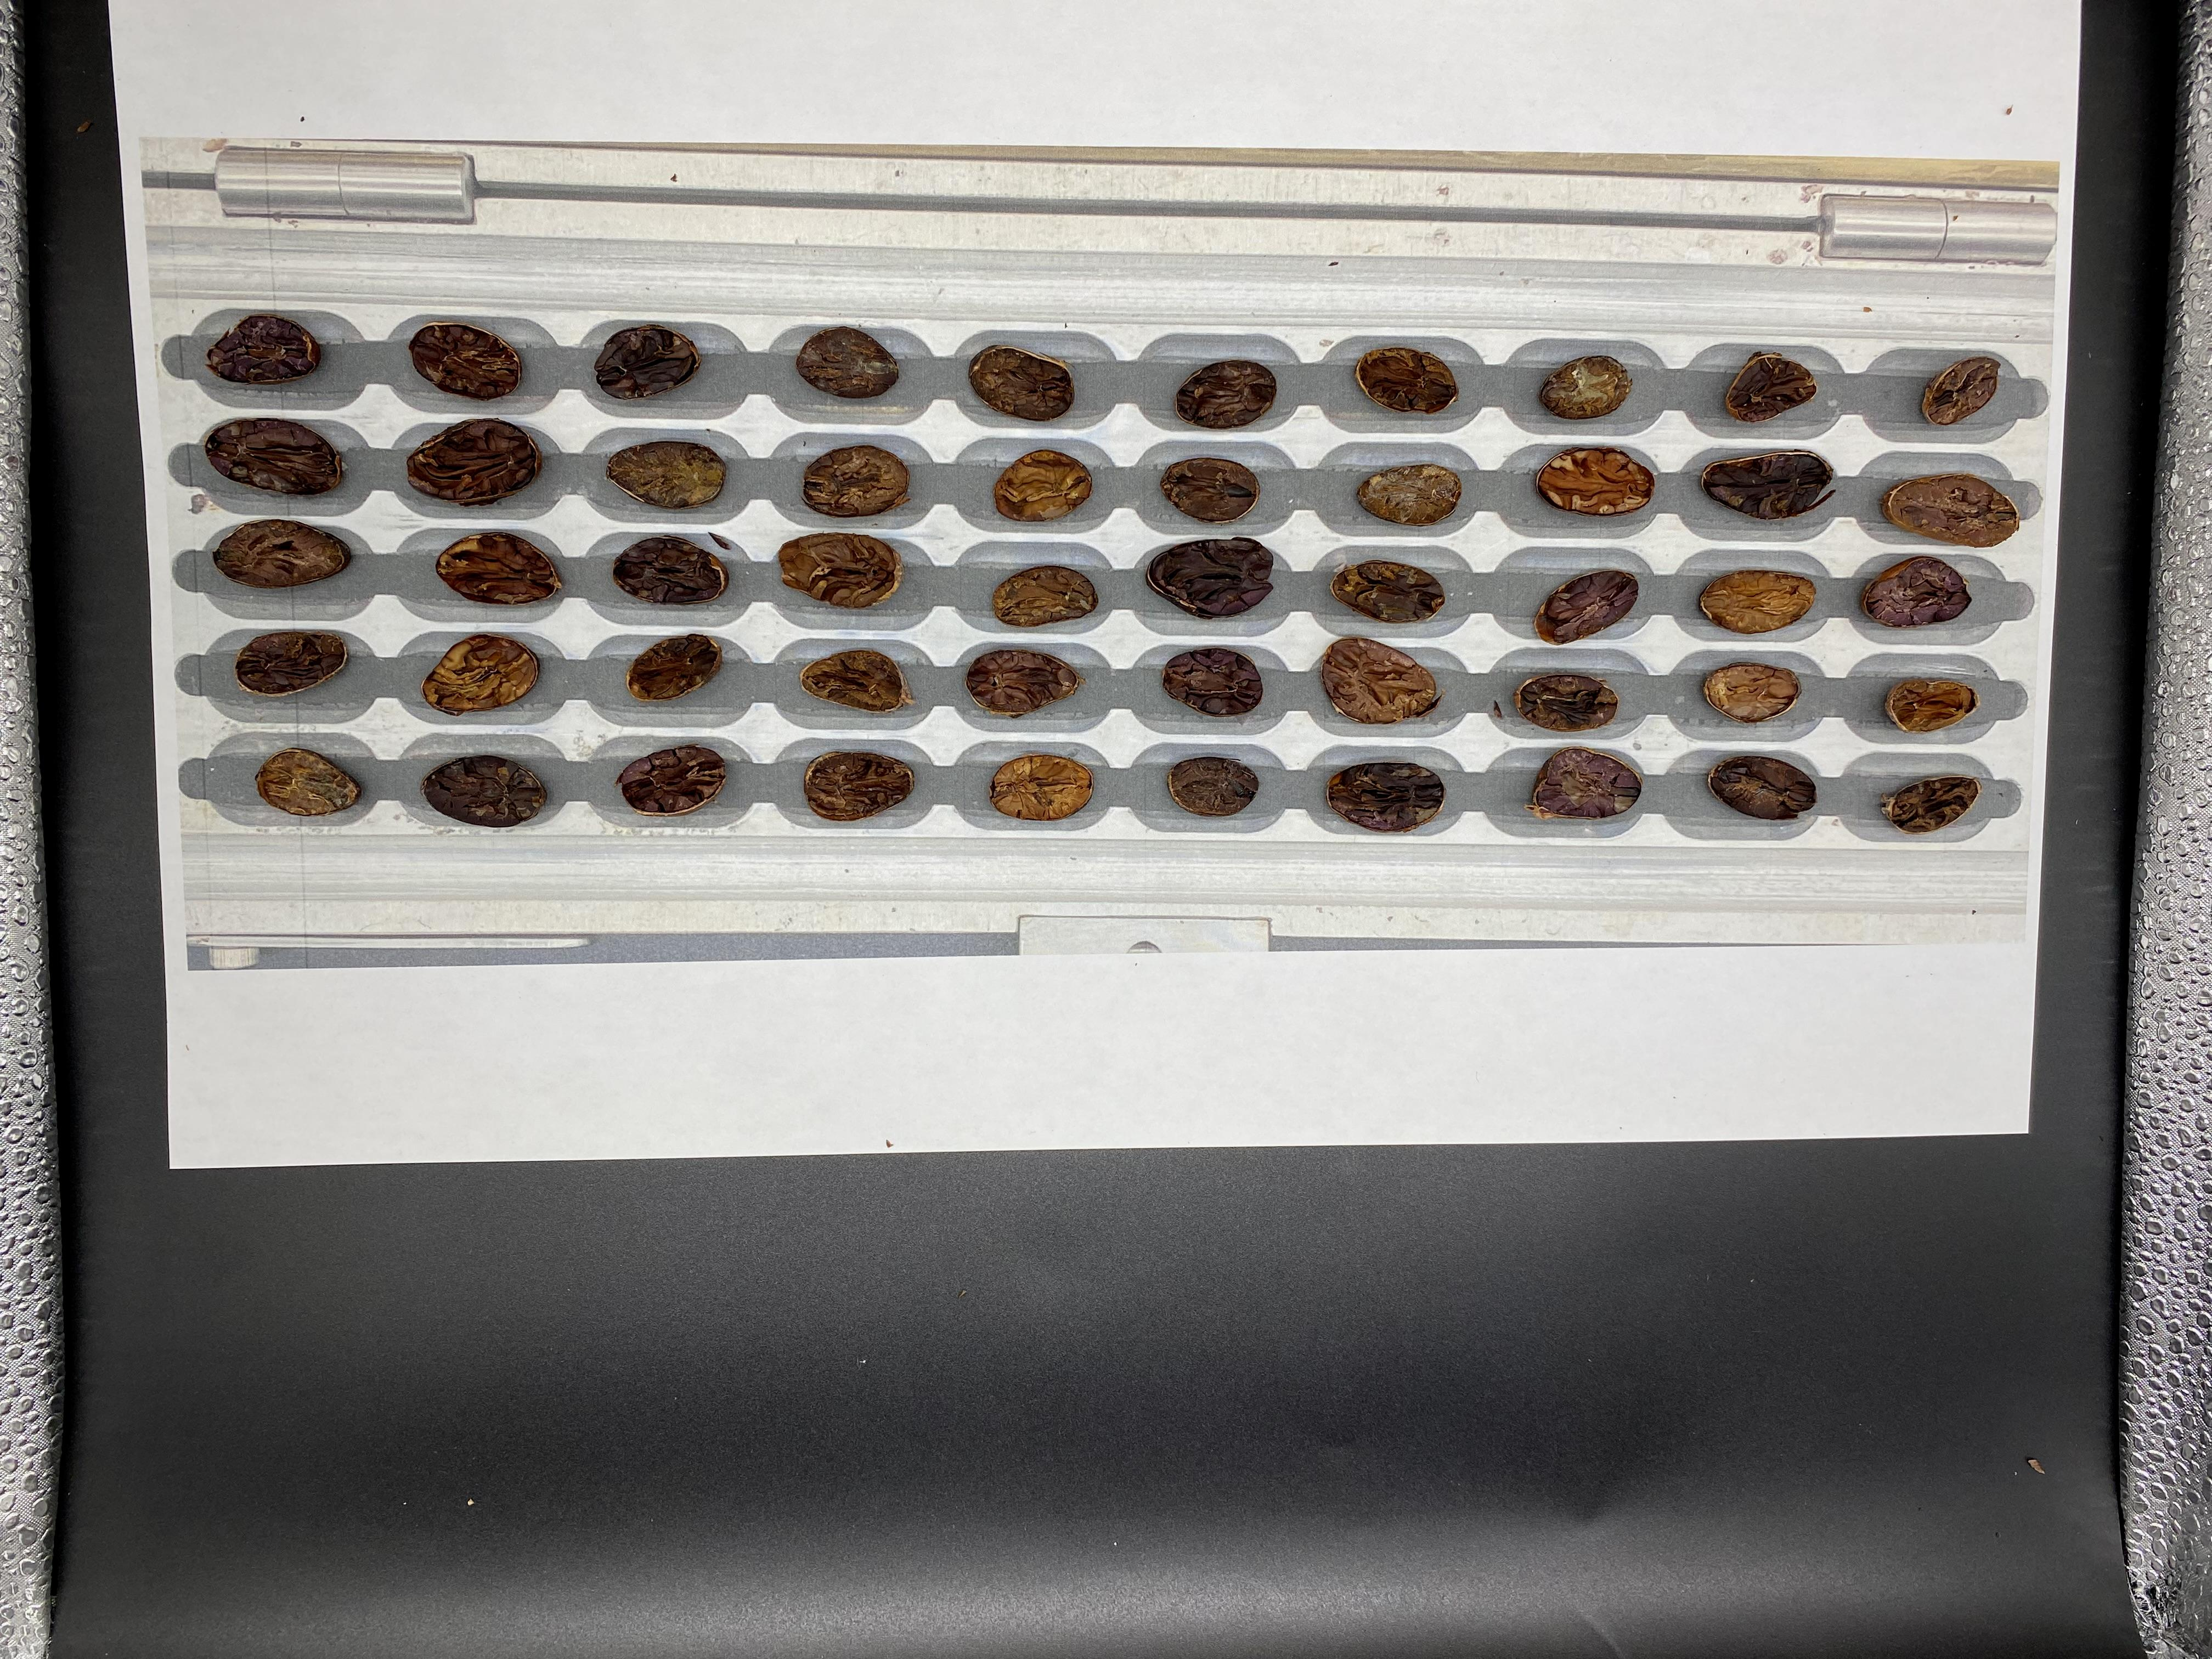Brown - G1: (202, 1026, 277, 1077), (219, 1086, 289, 1127), (775, 1040, 845, 1080), (951, 1157, 1008, 1192)
Brown - G2: (390, 1084, 465, 1129), (665, 1140, 733, 1187), (209, 1136, 277, 1182), (683, 990, 744, 1033), (206, 979, 268, 1021), (404, 1197, 469, 1237), (488, 1143, 552, 1183), (404, 1143, 467, 1182), (502, 1042, 559, 1084), (315, 1136, 369, 1176)
Brown - G3: (951, 1053, 1029, 1100), (105, 1079, 181, 1117), (486, 988, 549, 1033), (859, 1103, 927, 1143), (404, 1040, 465, 1082), (585, 1046, 643, 1086), (972, 993, 1021, 1040), (500, 1197, 559, 1236), (500, 1103, 561, 1140), (862, 1150, 920, 1185)
Insect-damaged: (305, 1037, 371, 1079)
Mouldy: (124, 1195, 190, 1237), (402, 979, 460, 1023), (685, 1051, 745, 1087), (779, 995, 831, 1033), (590, 1197, 644, 1234)
Partly Purple - G1: (578, 1087, 653, 1134), (310, 1194, 373, 1236)
Partly Purple - G2: (859, 1042, 937, 1084), (101, 1028, 178, 1070), (671, 1199, 738, 1241), (307, 1089, 373, 1127), (587, 1143, 643, 1185), (768, 1159, 824, 1190)
Partly Purple - G3: (773, 1103, 836, 1148)
Total Purple - G2: (101, 974, 169, 1014)
Total Purple - G3: (772, 1194, 838, 1237), (942, 1098, 1005, 1136)
Very Dark Brown - G1: (954, 1208, 1008, 1244)
Very Dark Brown - G2: (296, 979, 361, 1021), (117, 1134, 181, 1173), (594, 999, 653, 1037), (871, 995, 927, 1035)
Very Dark Brown - G3: (209, 1197, 282, 1239), (864, 1199, 927, 1237), (672, 1100, 737, 1136)
